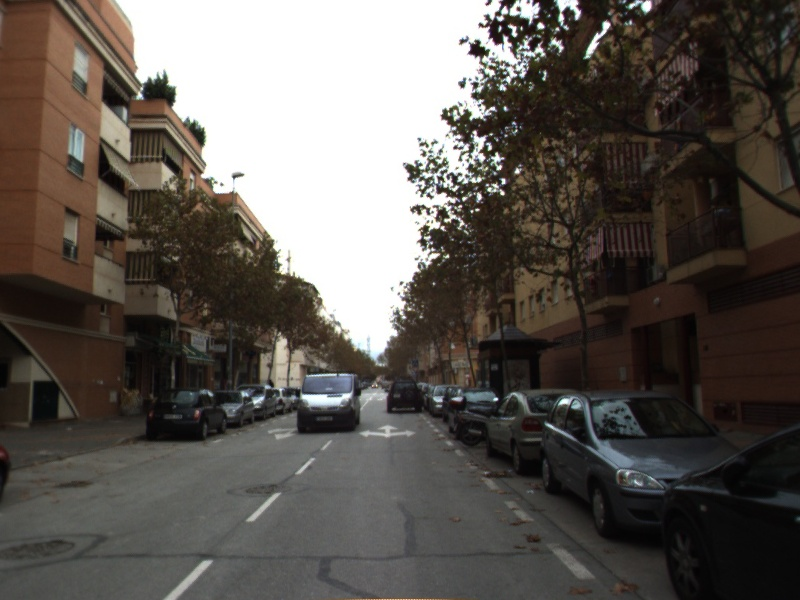STRAIGHT_LEFT_RIGHT: (357, 423, 418, 440)
